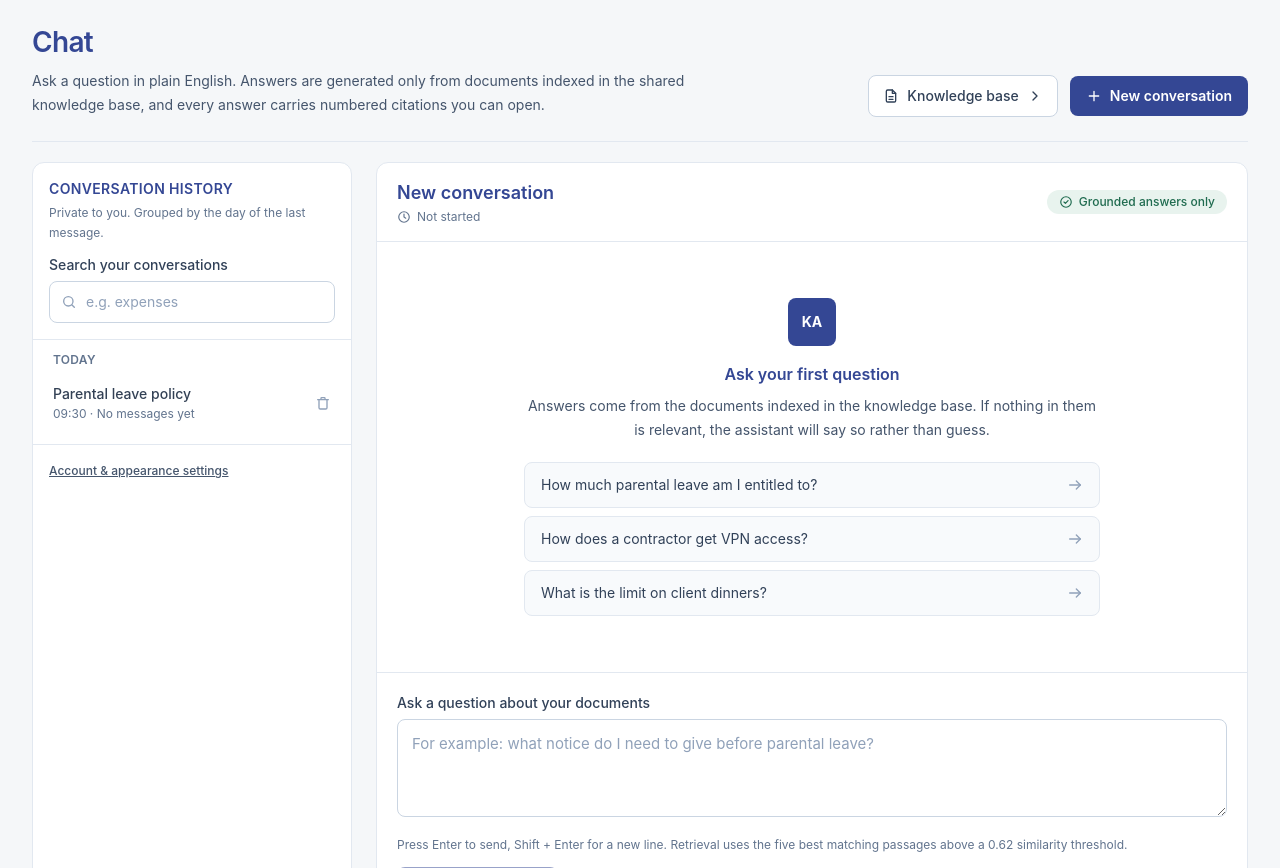
Test: Chat screen › conversation history: list, open, search, delete › a failed delete surfaces the backend error message inline and leaves the list unchanged
Expected: the text "Parental leave policy" is shown, [53, 385, 191, 402]
Click the button named "delete conversation: parental leave policy". click: (323, 403)
box: [307, 387, 339, 419]
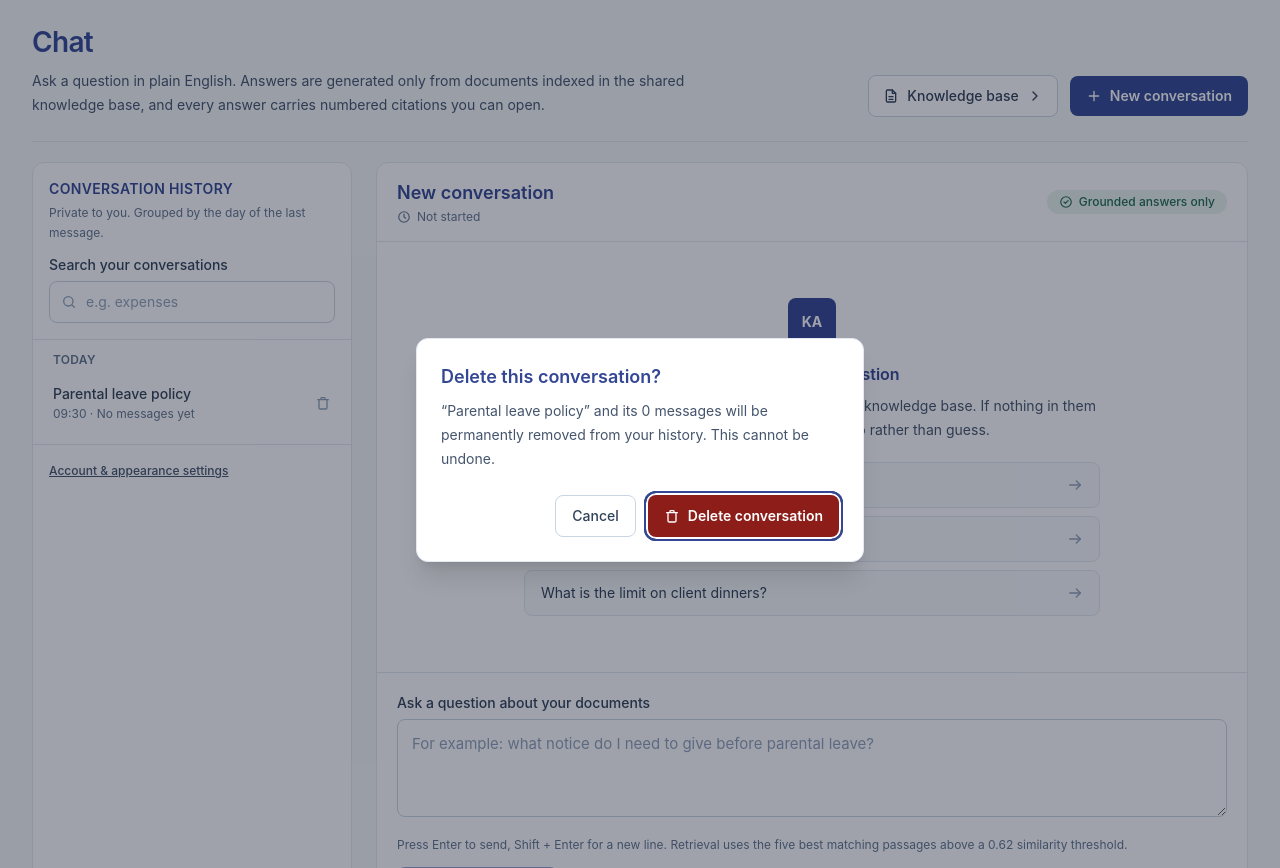
Click the button "Delete conversation". click: (743, 516)
box: [648, 495, 839, 537]
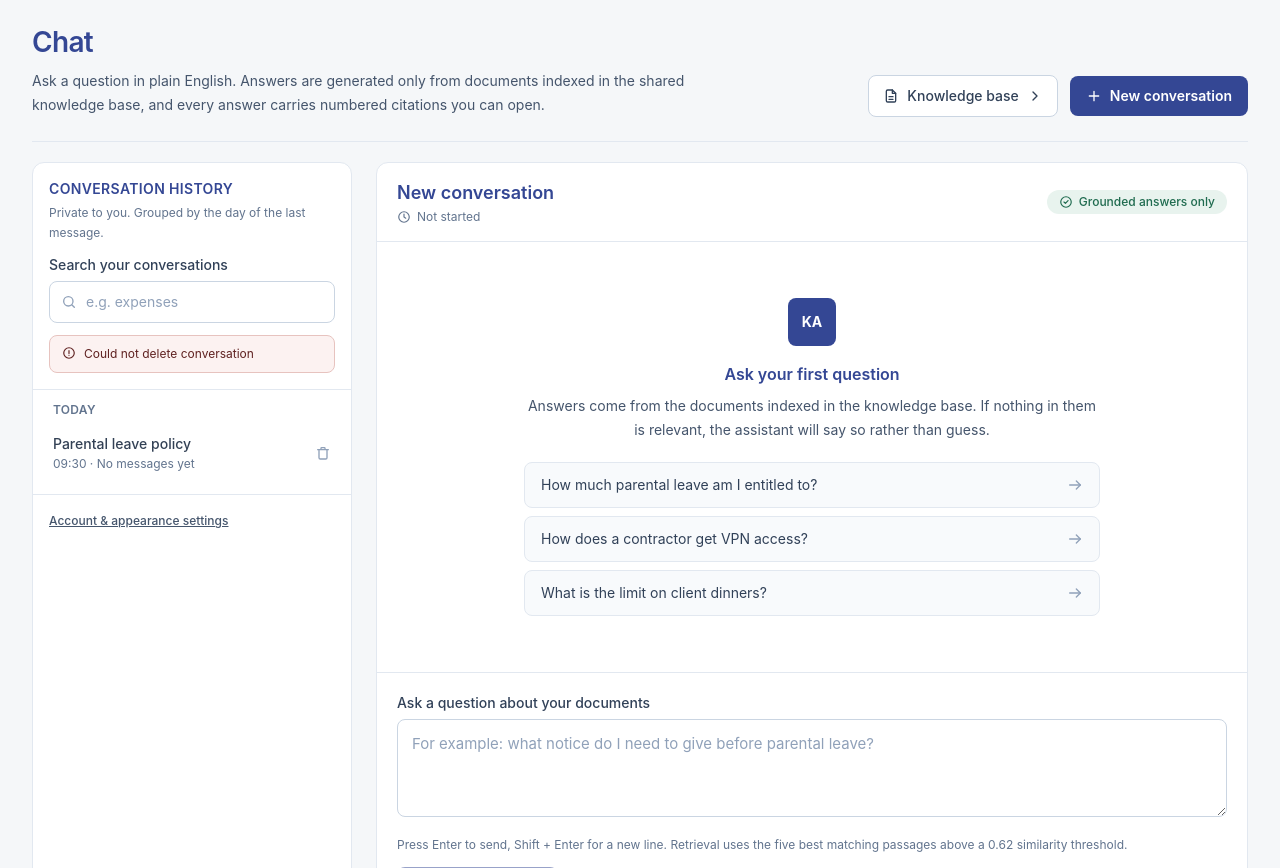
Expected: the text "Parental leave policy" is shown, [53, 435, 191, 452]
Expected: the text "Could not delete conversation" is shown, [49, 335, 335, 373]
